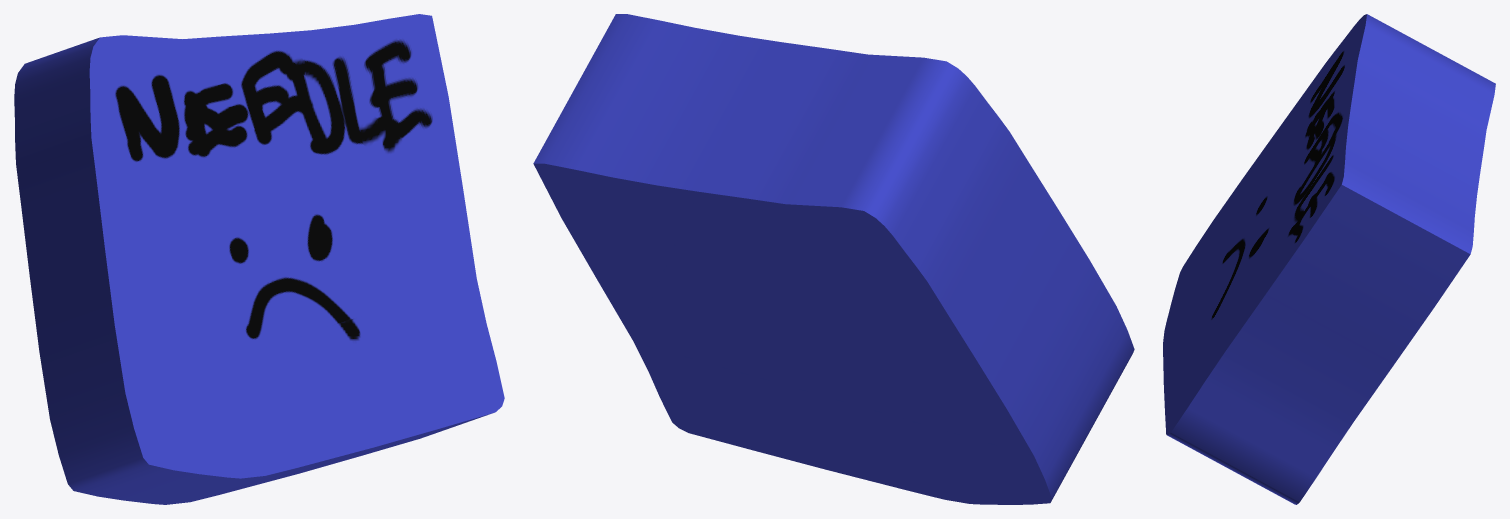
File: Marker.obj
The picture shows the model from 3 angles, left to right: view 1: azimuth 30°, elevation 25°; view 2: azimuth 150°, elevation 25°; view 3: azimuth 270°, elevation 25°; orthographic projection. The views are drawn at different scales.
Visible parts, largest first — view 1: mesh_id32; view 2: mesh_id32; view 3: mesh_id32.
Boxes of the visible parts, <box> form: mesh_id32: <box>14,14,504,504</box>; mesh_id32: <box>533,14,1134,504</box>; mesh_id32: <box>1163,14,1495,504</box>.
Bounding box in the file's own units: 0.2517 × 0.2789 × 0.2218.
Materials: 1 (1 with a texture image).
